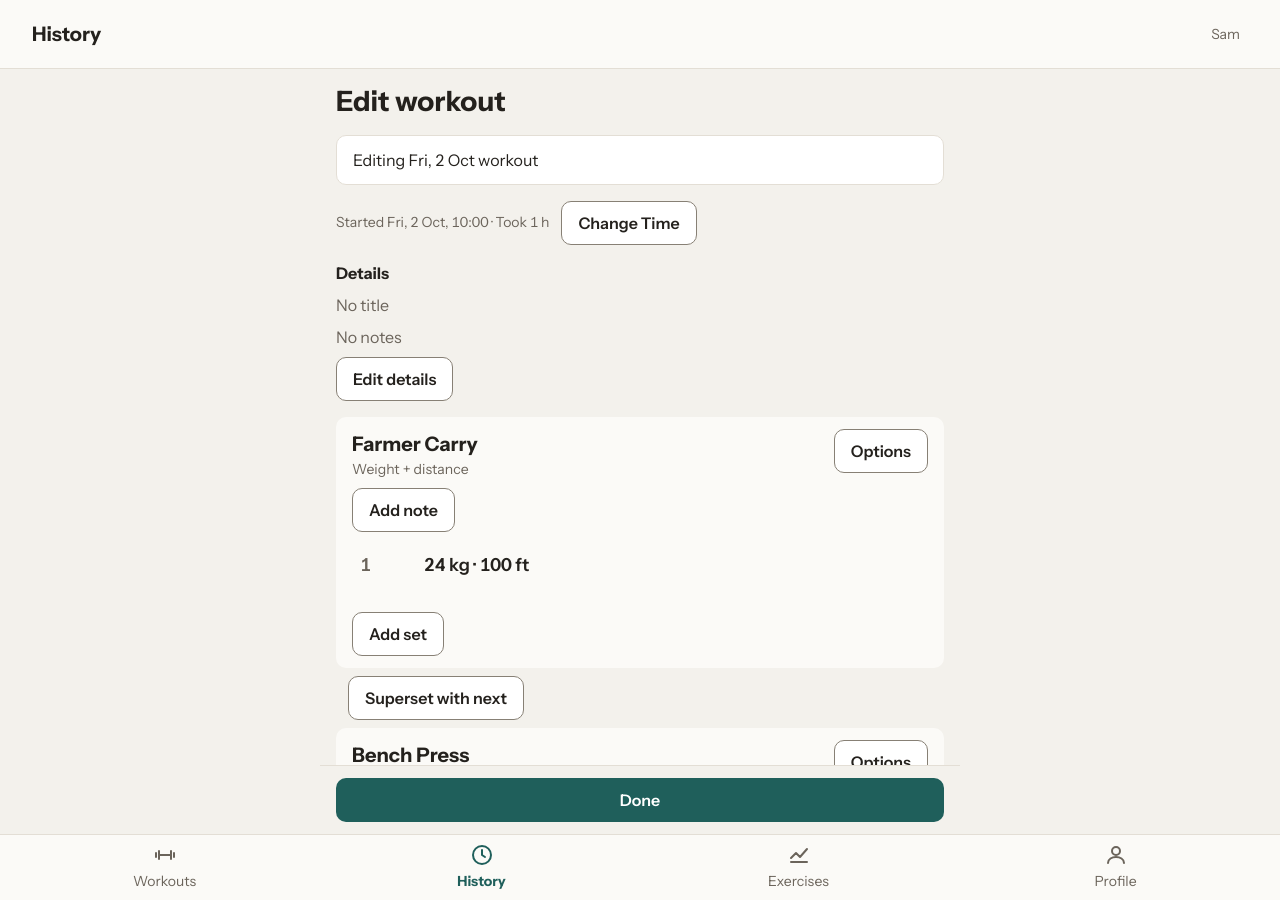
Test: 18.1 AC20 — the edit screen's set sheet › carry: Weight + unit and Distance + unit, prefilled with its own unit (ft)
Step 1. Click the button "1 24 kg · 100 ft" → click(477, 565), box [352,544,928,588]
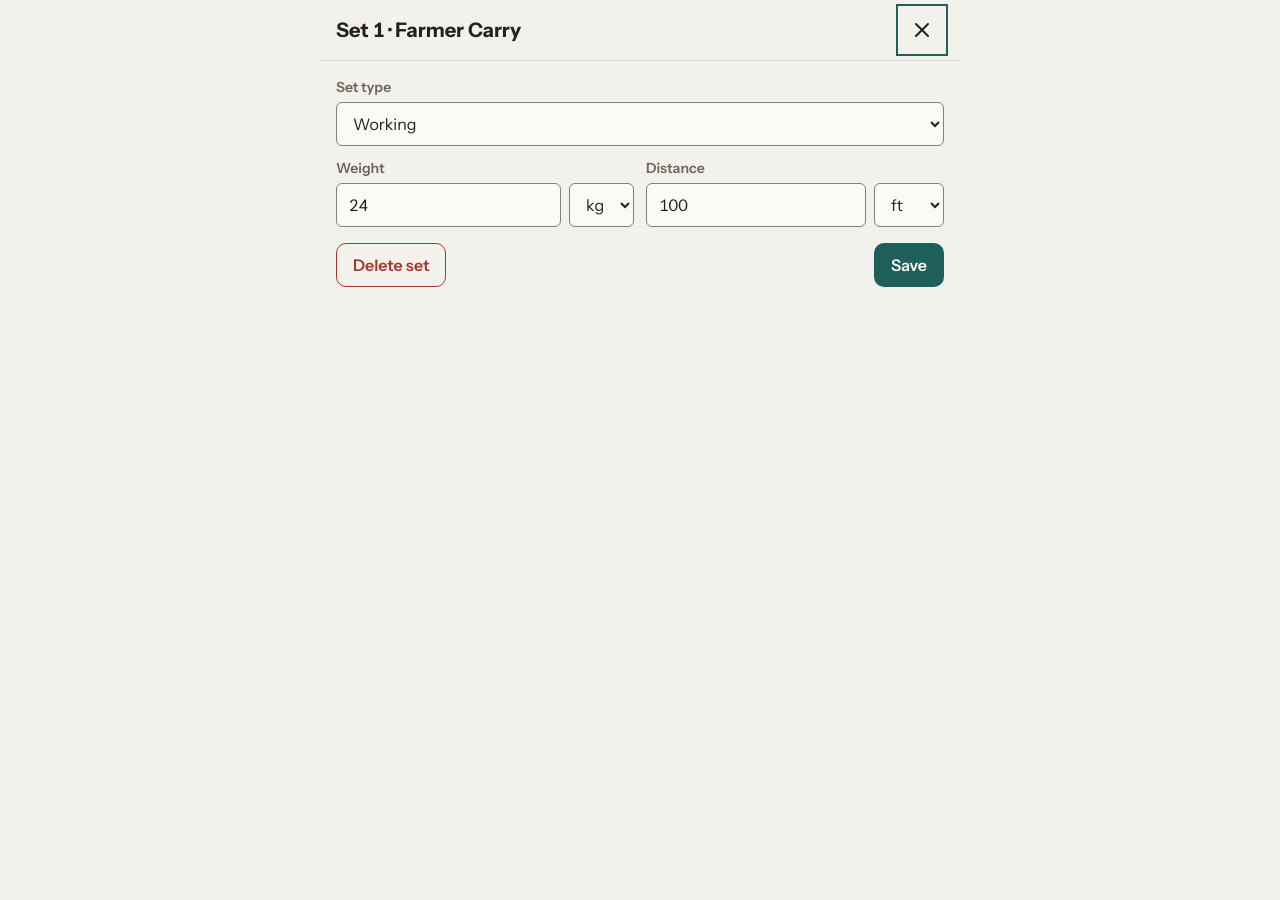
expect the field labelled "Weight" holds "24": met, box [336,183,561,227]
expect the field labelled "Distance" holds "100": met, box [646,183,866,227]
expect the dropdown named "Distance unit" shows "ft": met, box [874,183,944,227]
